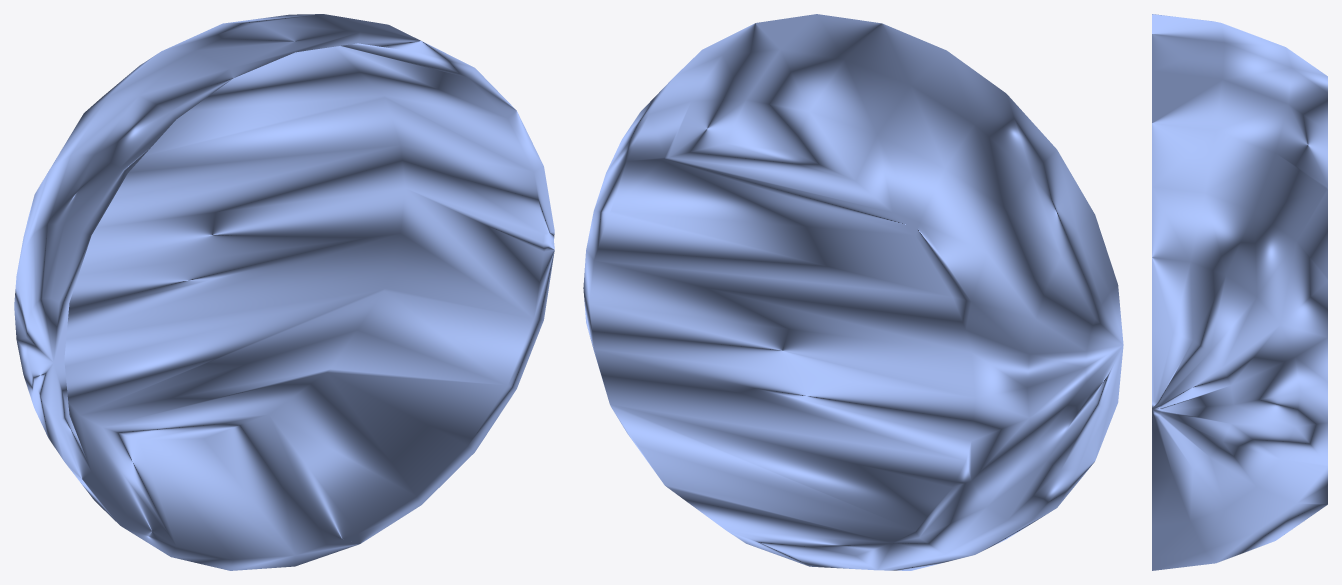
File: model_align.obj
The picture shows the model from 3 angles, left to right: view 1: azimuth 30°, elevation 25°; view 2: azimuth 150°, elevation 25°; view 3: azimuth 270°, elevation 25°; orthographic projection. The views are drawn at different scales.
Bounding box in the file's own units: 0.1497 × 0.15 × 0.0472.
